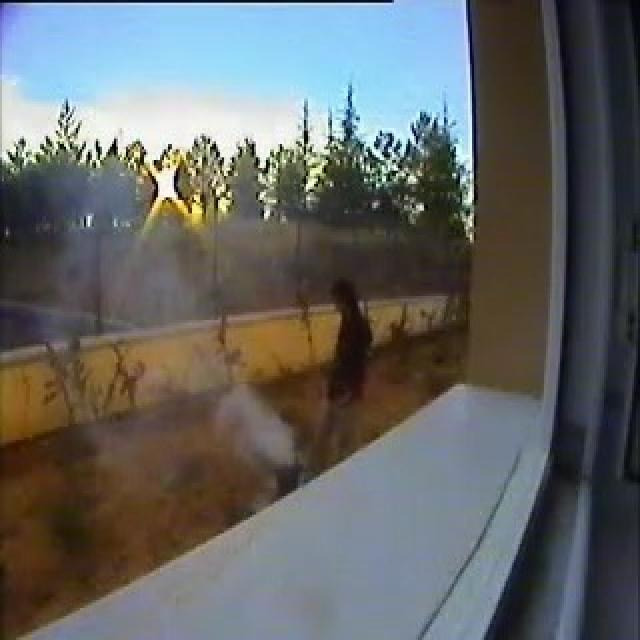smoke: (207, 380, 294, 460)
